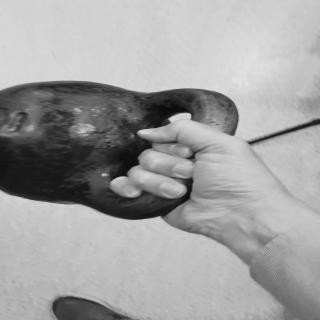girya: (1, 80, 239, 224)
